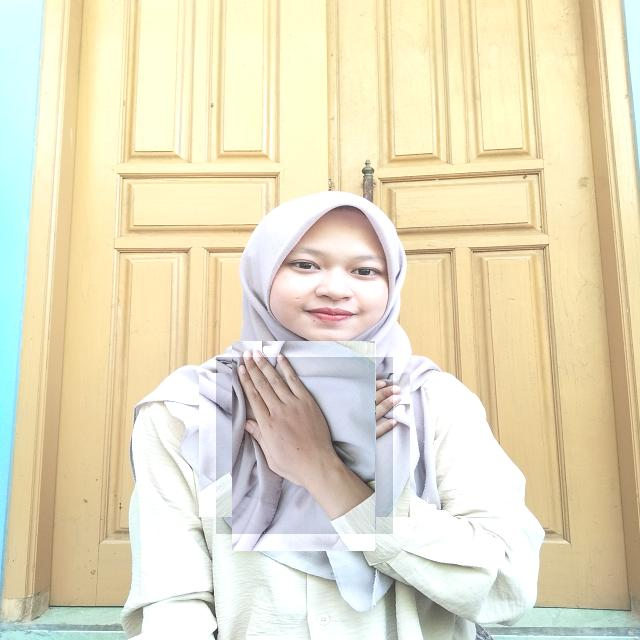tolong: (216, 357, 393, 534)
